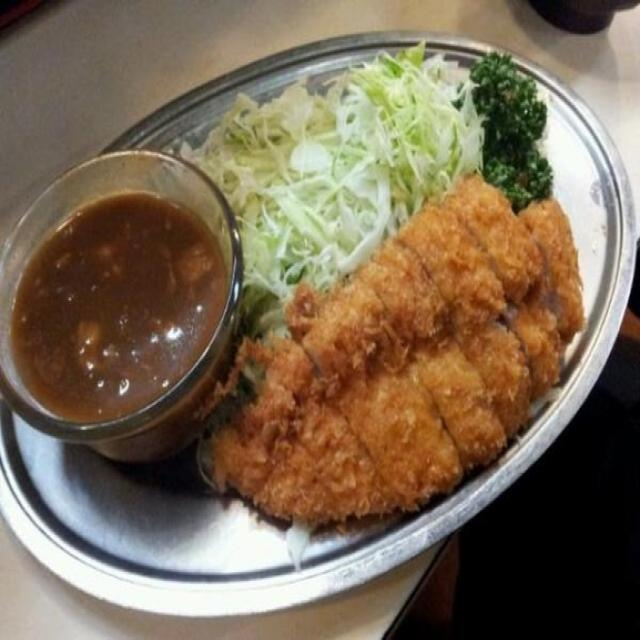鸡肉料理 含炸鸡: (185, 156, 576, 524)
